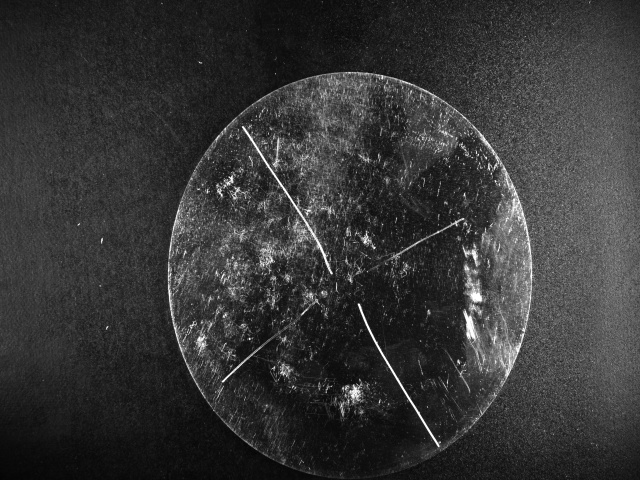ca_shang: (239, 120, 331, 279), (354, 297, 442, 447), (218, 294, 322, 385), (357, 209, 465, 274)
